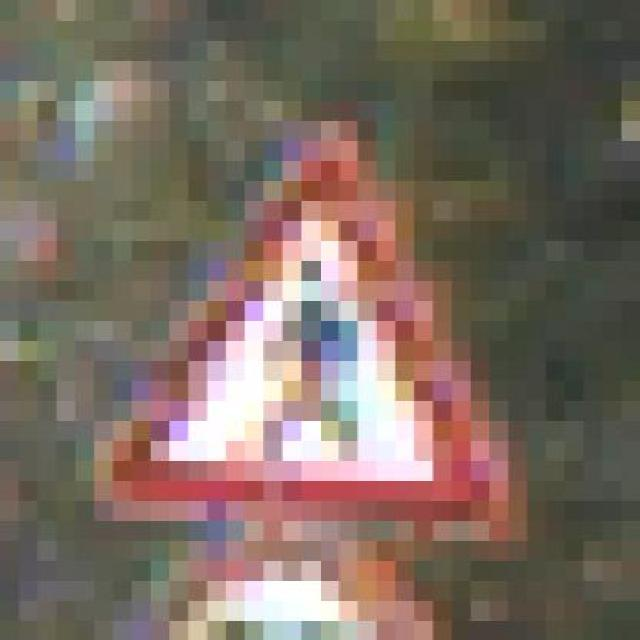Pedestrian Crossing: (76, 100, 546, 540)
